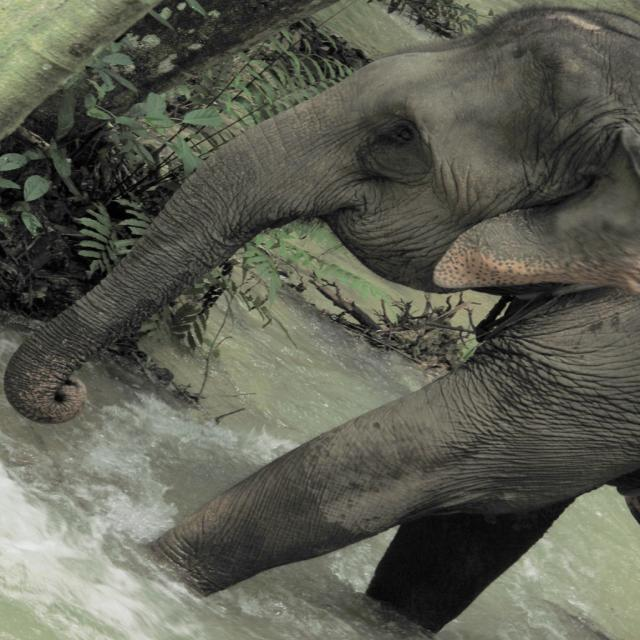Elephant: (2, 4, 640, 630)
